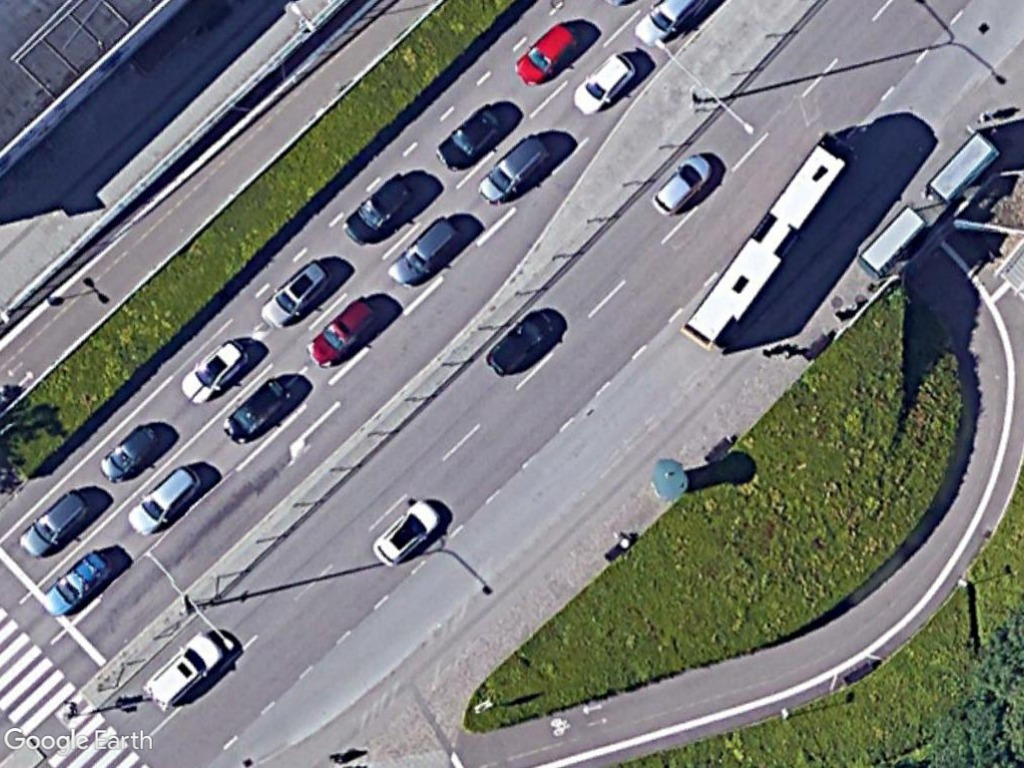bus: (674, 132, 855, 347)
car: (143, 627, 227, 716), (305, 290, 383, 375), (255, 252, 335, 334), (125, 459, 207, 539), (472, 131, 552, 209), (386, 212, 464, 291), (175, 333, 253, 410), (38, 542, 114, 620), (16, 483, 90, 562), (484, 306, 561, 381), (344, 170, 420, 245), (221, 373, 298, 446), (370, 495, 442, 570), (433, 99, 506, 170), (644, 152, 720, 220), (568, 49, 639, 121), (513, 19, 581, 90), (100, 417, 167, 483)
